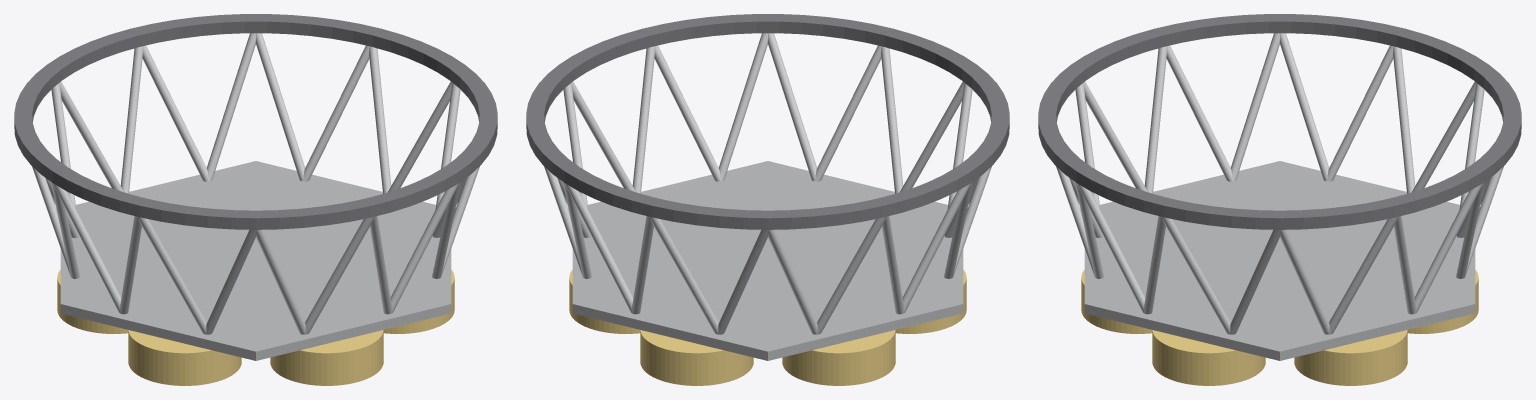
The model's file is prop04_ion_cluster.glb.
3 renders of one model, left to right at view 1: azimuth 30°, elevation 25°; view 2: azimuth 150°, elevation 25°; view 3: azimuth 270°, elevation 25°, orthographic.
Parts seen in each view (by area): view 1: thruster_plate, truss, interface_ring, thrusters; view 2: thruster_plate, truss, interface_ring, thrusters; view 3: thruster_plate, truss, interface_ring, thrusters.
Boxes of the visible parts, x1,y1,x2,y2 form: thruster_plate: (60,161,451,360); truss: (32,33,479,334); interface_ring: (14,14,497,229); thrusters: (57,270,454,385); thruster_plate: (572,161,963,360); truss: (544,33,991,334); interface_ring: (526,14,1009,229); thrusters: (569,270,966,385); thruster_plate: (1084,161,1475,360); truss: (1056,33,1503,334); interface_ring: (1038,14,1521,229); thrusters: (1081,270,1478,385).
Size of the model in its own units: 3.75 by 1.68 by 3.75.
